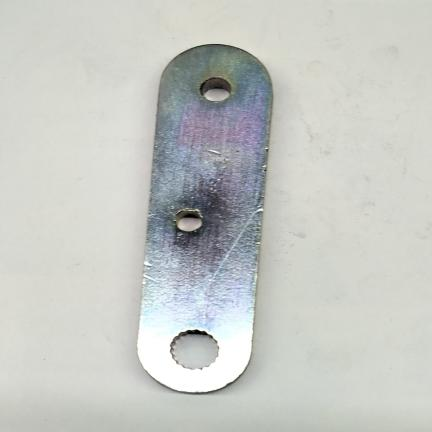line defect: (195, 208, 265, 300)
